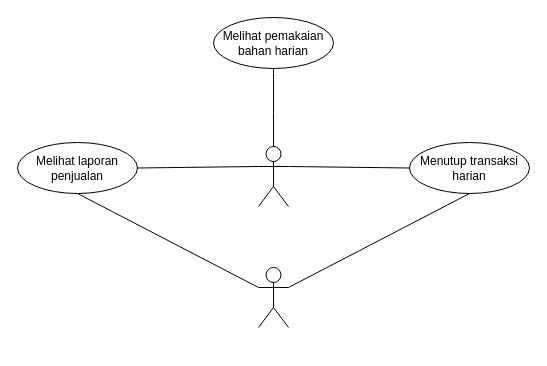
Image size: 547x366. Some labels were removed from this diagram. The shapes that lost their labels are listed below. From the top down, each one's centre as x and y in pixels, then its label:
point (273, 176): Pemilik
point (273, 297): Kasir
